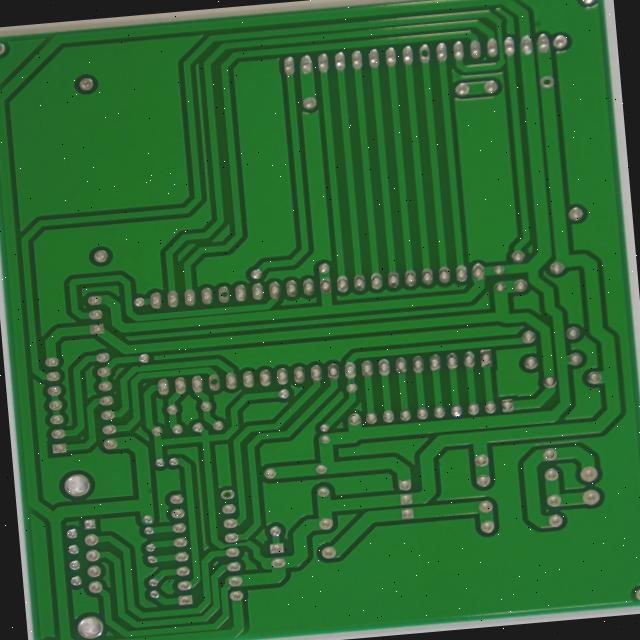missing_hole: (521, 83, 546, 107), (376, 53, 399, 75), (135, 328, 160, 348), (139, 556, 162, 576), (126, 428, 146, 449)
